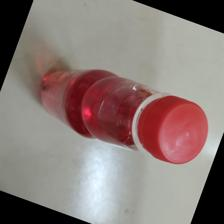Sting: (36, 68, 209, 165)
